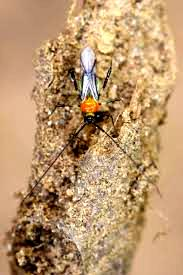Helopeltis-insect: (77, 40, 106, 135)
